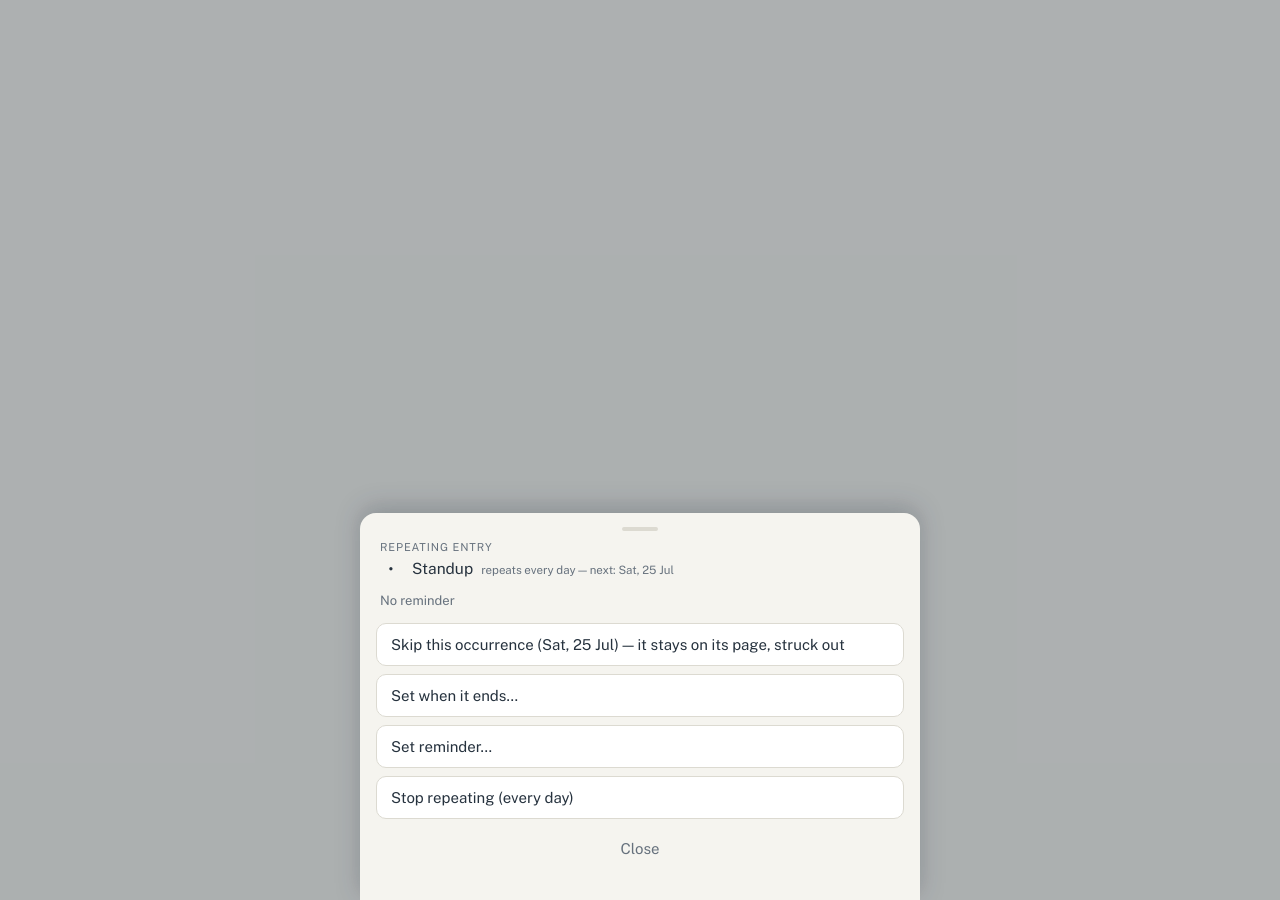
Test: the repeat's reminder › a refused change is said in place and the sheet stays open
Click the button with test id "rule-reminder-set". click: (442, 746)
box: x1=376 y1=725 x2=904 y2=768
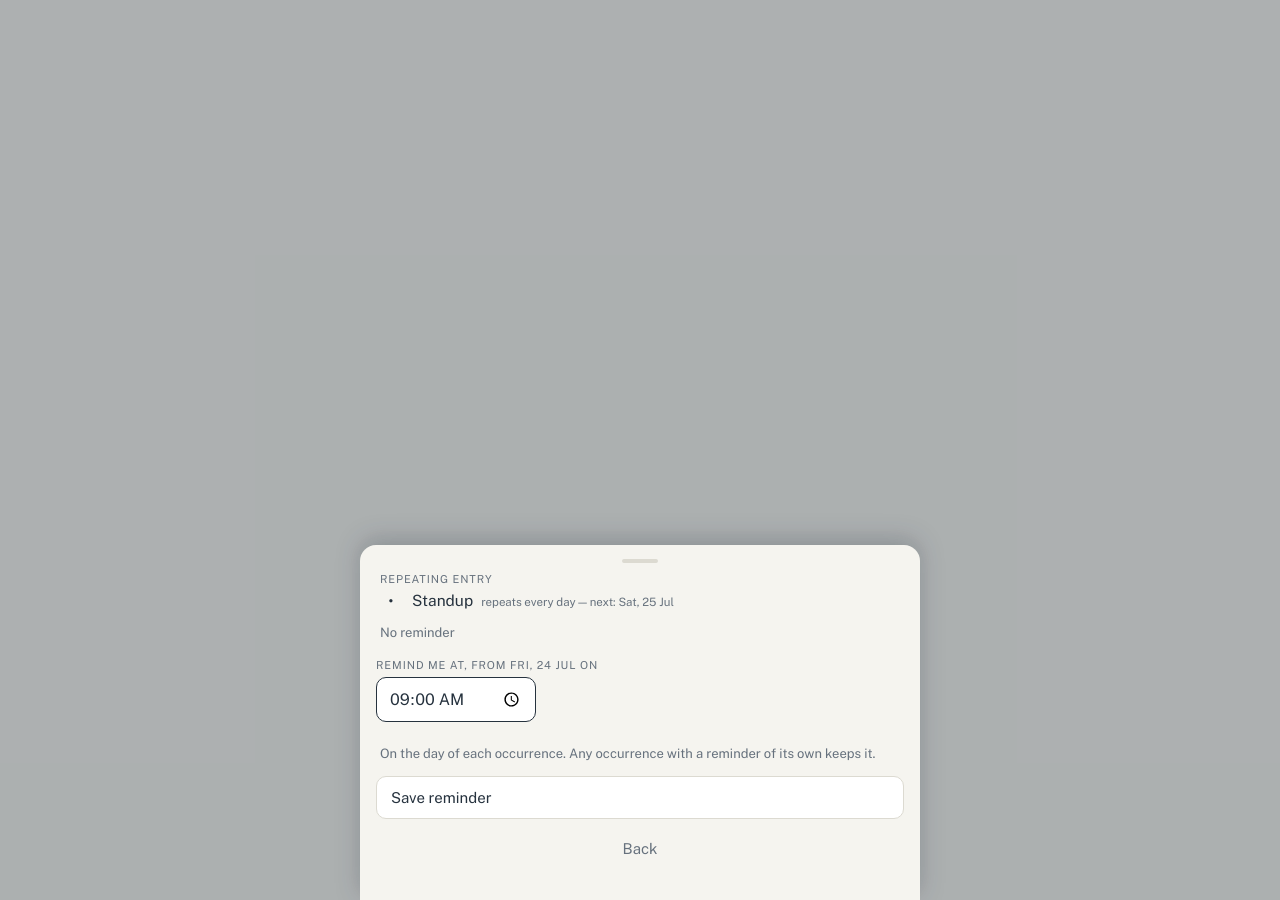
Click the button with test id "rule-reminder-save". click: (441, 798)
box: x1=376 y1=776 x2=904 y2=819
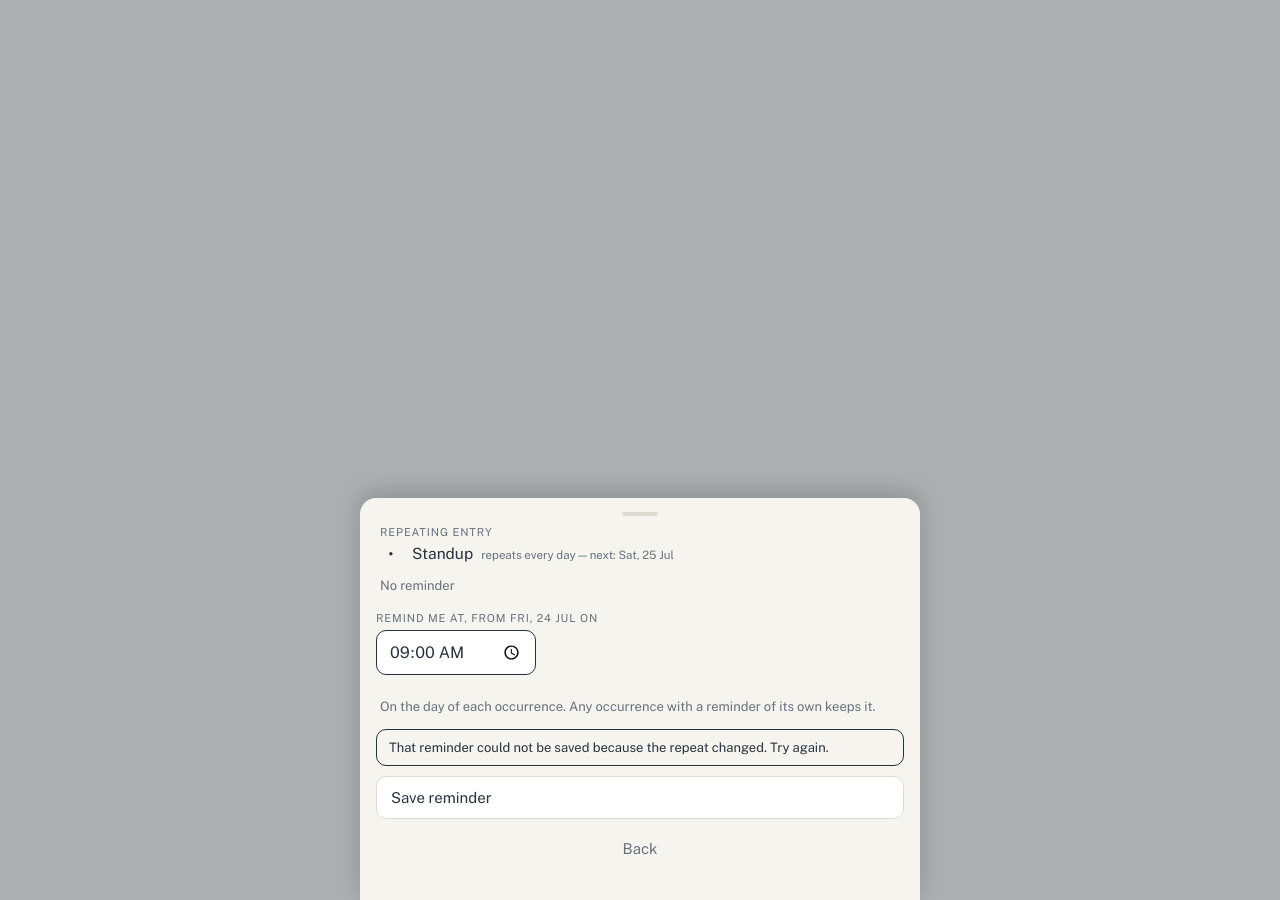
Check: the message shows "could not be saved", box x1=389 y1=740 x2=829 y2=755
